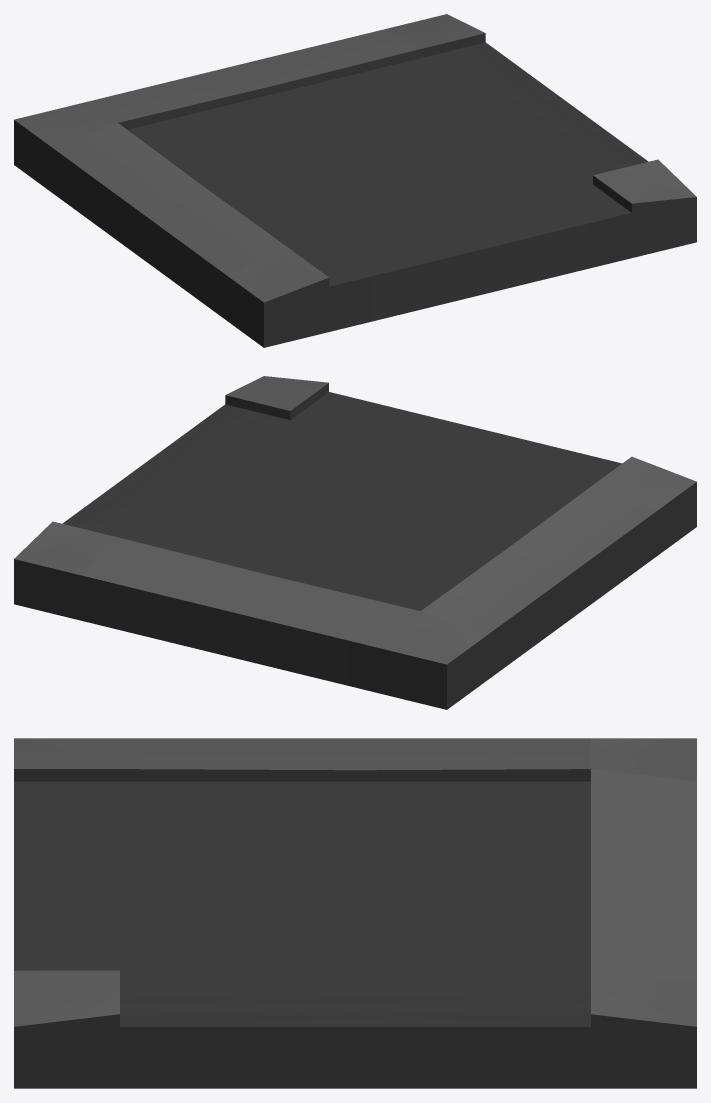
File: g_road.fbx
The picture shows the model from 3 angles, top to bottom: view 1: azimuth 30°, elevation 25°; view 2: azimuth 150°, elevation 25°; view 3: azimuth 270°, elevation 25°; orthographic projection. The views are drawn at different scales.
Parts seen in each view (by area): view 1: G_road; view 2: G_road; view 3: G_road.
Boxes of the visible parts, x1,y1,x2,y2 form: G_road: [14, 14, 696, 347]; G_road: [14, 376, 696, 709]; G_road: [14, 738, 696, 1088].
Size of the model in its own units: 200 by 200 by 24.07.
1 material, 1 textured.
